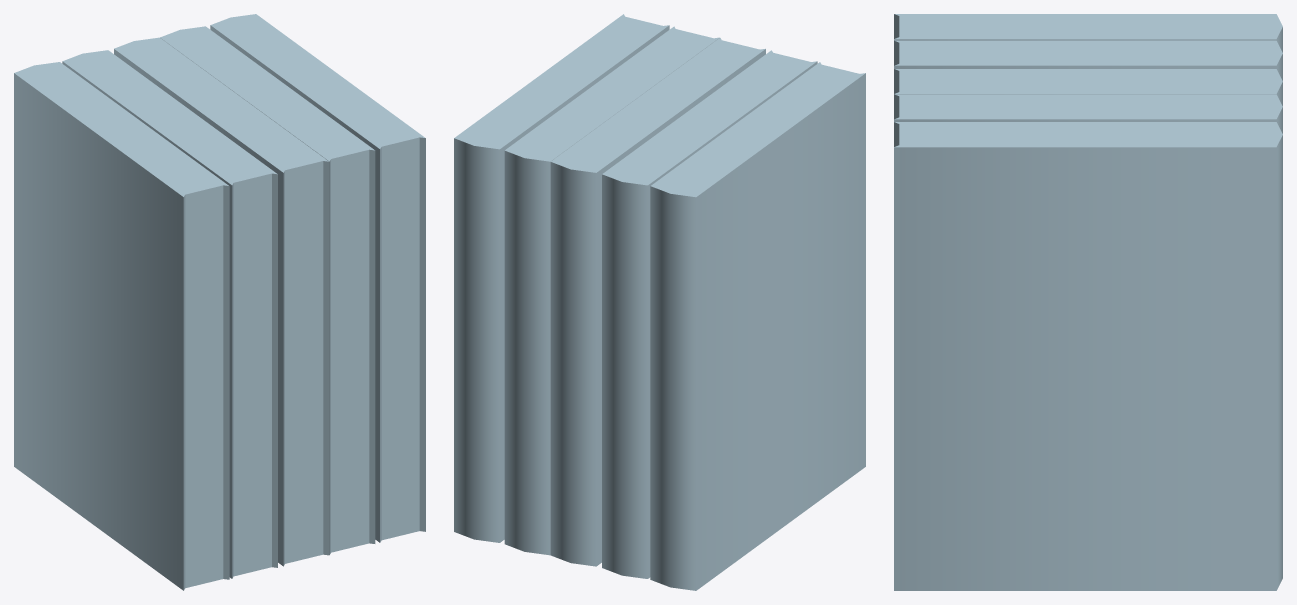
File: Prop_books.FBX
The picture shows the model from 3 angles, left to right: view 1: azimuth 30°, elevation 25°; view 2: azimuth 150°, elevation 25°; view 3: azimuth 270°, elevation 25°; orthographic projection. The views are drawn at different scales.
Visible parts, largest first — view 1: Prop_book005, Prop_book003, Prop_book001, Prop_book004, Prop_book002; view 2: Prop_book005, Prop_book003, Prop_book001, Prop_book004, Prop_book002; view 3: Prop_book001, Prop_book004, Prop_book002, Prop_book005, Prop_book003.
Part boxes in pixels (left/top/right/bottom): Prop_book005: left=14, top=62, right=229, bottom=590; Prop_book003: left=114, top=37, right=329, bottom=566; Prop_book001: left=210, top=14, right=425, bottom=542; Prop_book004: left=62, top=50, right=277, bottom=578; Prop_book002: left=160, top=26, right=375, bottom=554; Prop_book005: left=650, top=62, right=865, bottom=590; Prop_book003: left=550, top=38, right=765, bottom=566; Prop_book001: left=454, top=14, right=669, bottom=542; Prop_book004: left=602, top=50, right=817, bottom=578; Prop_book002: left=504, top=26, right=719, bottom=555; Prop_book001: left=894, top=122, right=1282, bottom=590; Prop_book004: left=894, top=40, right=1282, bottom=80; Prop_book002: left=894, top=94, right=1282, bottom=133; Prop_book005: left=894, top=14, right=1282, bottom=52; Prop_book003: left=894, top=69, right=1282, bottom=106.
Bounding box in the file's own units: 17.5 × 21.6 × 27.19.
